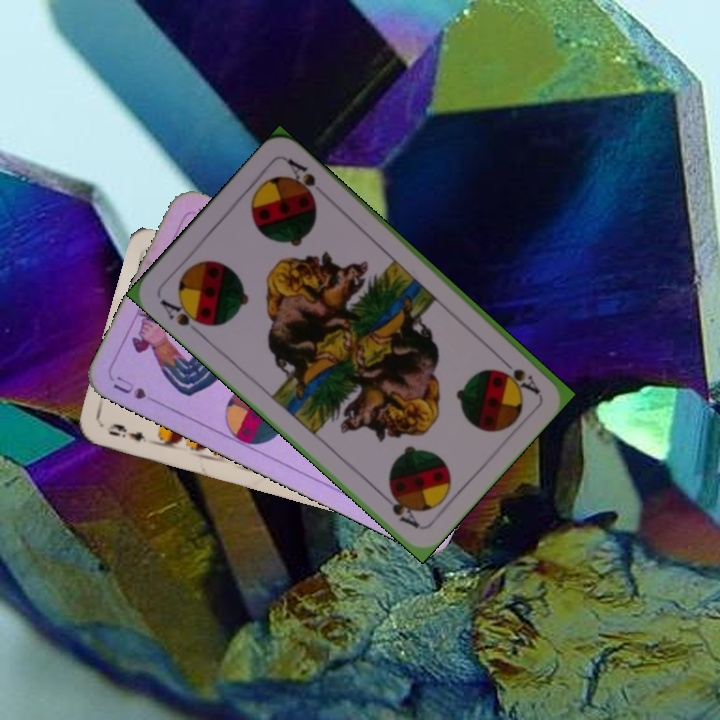E9: (102, 419, 149, 446)
SA: (155, 295, 210, 336), (494, 353, 543, 397)
SU: (108, 372, 165, 408)
